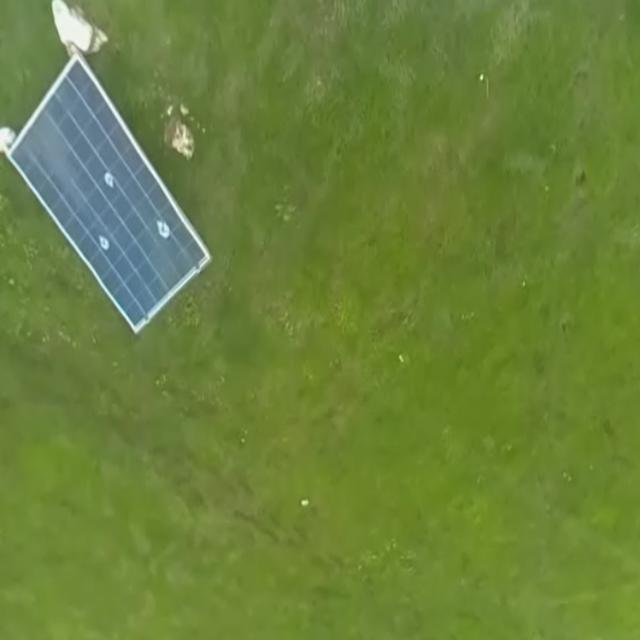Bird-drop: (158, 218, 171, 240), (104, 168, 116, 191), (98, 234, 111, 250)
